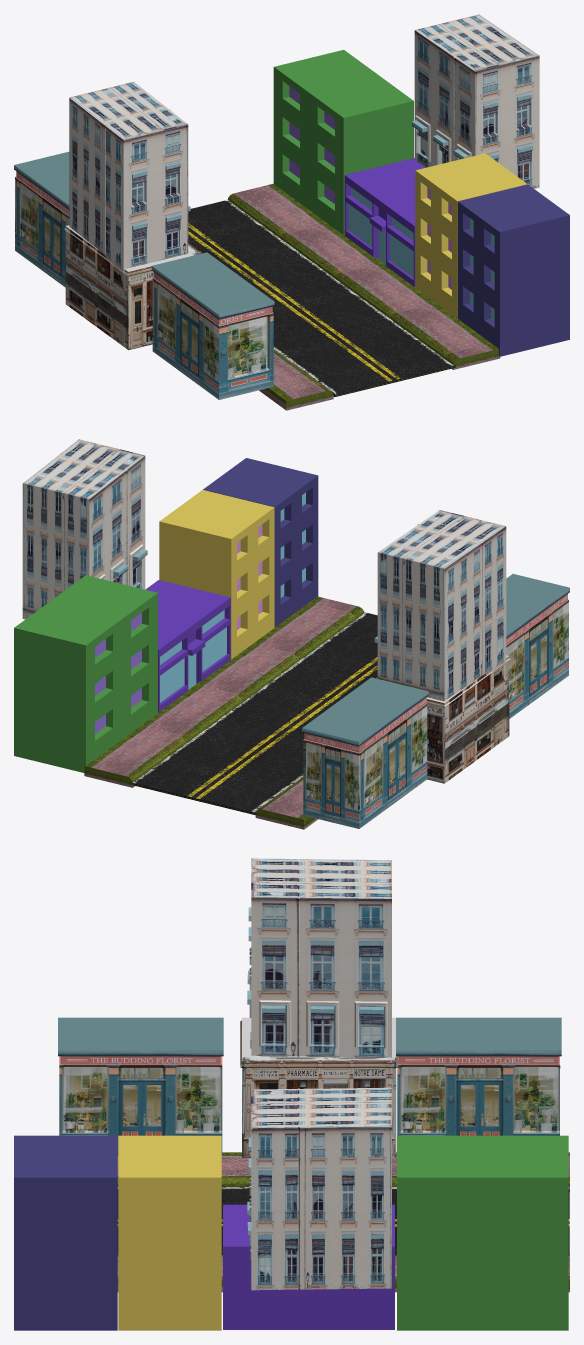
The model's file is haberdasheryStreet.glb.
3 renders of one model, top to bottom at view 1: azimuth 30°, elevation 25°; view 2: azimuth 150°, elevation 25°; view 3: azimuth 270°, elevation 25°, orthographic. The views are drawn at different scales.
Parts seen in each view (by area): view 1: Cube.007, Cube.016, Cube.017, Cube.009, Cube.012, Cube.013, Cube.015, Cube.011, Cube.008, Cube.010, Cube.018, Cube.014; view 2: Cube.009, Cube.016, Cube.007, Cube.017, Cube.018, Cube.011, Cube.015, Cube.012, Cube.013, Cube.010, Cube.008, Cube.014; view 3: Cube.009, Cube.017, Cube.016, Cube.011, Cube.012, Cube.013, Cube.018, Cube.010, Cube.008, Cube.014, Cube.007.
Part boxes in pixels (x1,y1,x2,y2): Cube.007: (188,200,455,396); Cube.016: (69,81,190,271); Cube.017: (411,14,539,188); Cube.009: (273,50,413,234); Cube.012: (457,184,569,356); Cube.013: (151,252,274,399); Cube.015: (227,183,500,369); Cube.011: (415,153,527,318); Cube.008: (64,225,202,350); Cube.010: (344,158,425,286); Cube.018: (14,151,69,287); Cube.014: (259,349,333,410); Cube.009: (14,575,157,772); Cube.016: (374,510,506,701); Cube.007: (132,612,377,815); Cube.017: (22,439,147,619); Cube.018: (302,677,428,828); Cube.011: (159,490,274,659); Cube.015: (84,596,364,787); Cube.012: (203,458,318,627); Cube.013: (506,574,569,718); Cube.010: (145,580,230,712); Cube.008: (376,655,510,783); Cube.014: (255,777,317,829); Cube.009: (397,1135,568,1330); Cube.017: (247,1087,391,1290); Cube.016: (247,858,391,1057); Cube.011: (118,1135,221,1330); Cube.012: (14,1135,117,1330); Cube.013: (58,1017,223,1154); Cube.018: (396,1017,561,1135); Cube.010: (223,1204,394,1329); Cube.008: (240,1017,397,1157); Cube.014: (117,1152,569,1191); Cube.007: (117,1186,569,1254).
Size of the model in its own units: 17.68 by 8.79 by 16.67.
14 materials, 5 textured.
